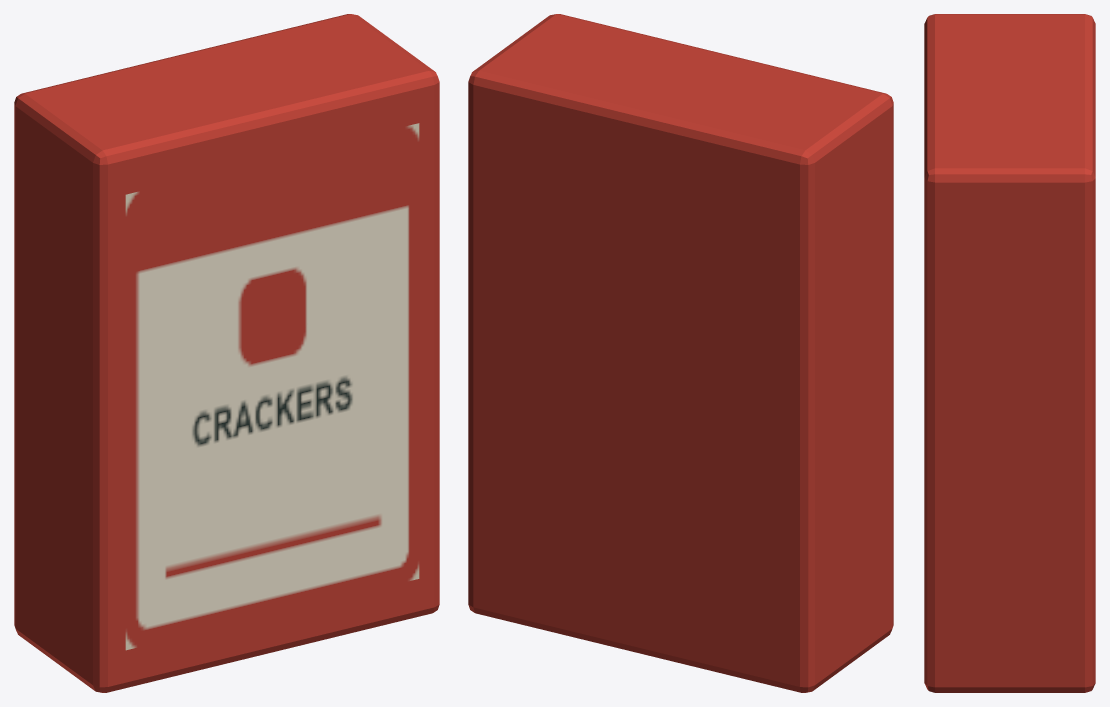
Rendered from crackers.fbx.
The picture shows the model from 3 angles, left to right: view 1: azimuth 30°, elevation 25°; view 2: azimuth 150°, elevation 25°; view 3: azimuth 270°, elevation 25°; orthographic projection. The views are drawn at different scales.
Visible parts, largest first — view 1: crackers; view 2: crackers; view 3: crackers.
Boxes of the visible parts, box(x1,y1,x2,y2) form: crackers: box(14, 14, 439, 692); crackers: box(468, 14, 893, 692); crackers: box(924, 14, 1095, 692).
Bounding box in the file's own units: 18 × 27 × 8.1.
